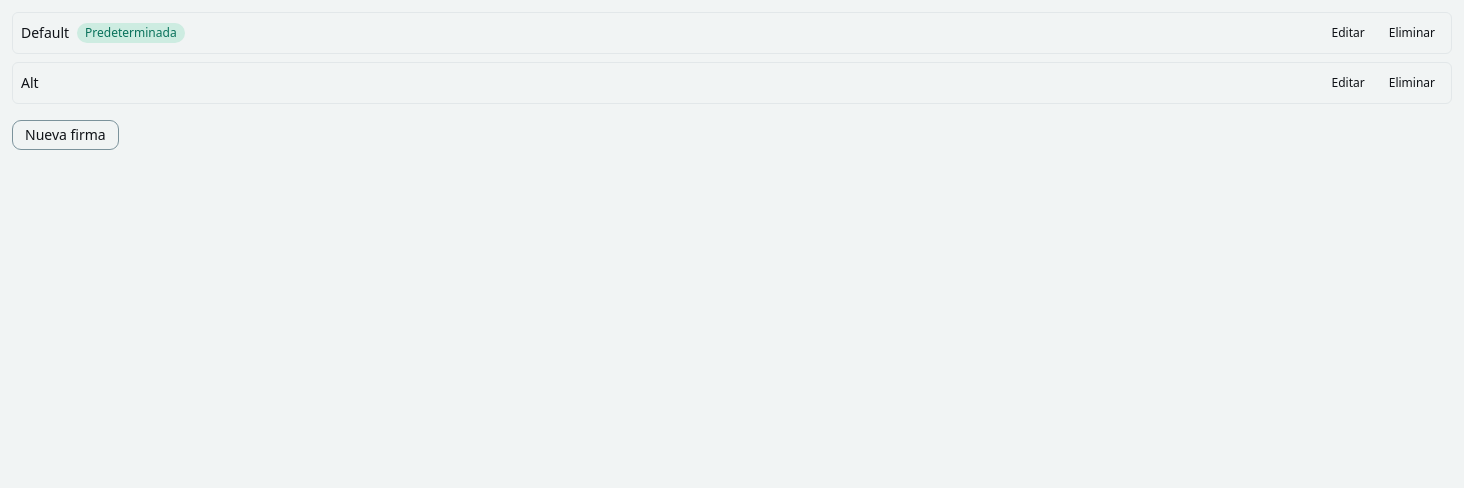
Test case: SignatureSettings › list view (#132): two or more signatures › falls back to the edit-first view, open on the remaining signature, after a delete drops the count to one
Check: the text "Alt" is shown, box [21, 73, 39, 93]
What coordinates should you click on to do the following:
click the button "Eliminar" in the row of "Alt"
I would click on:
 (1412, 83)
Its box is [1381, 71, 1443, 95].
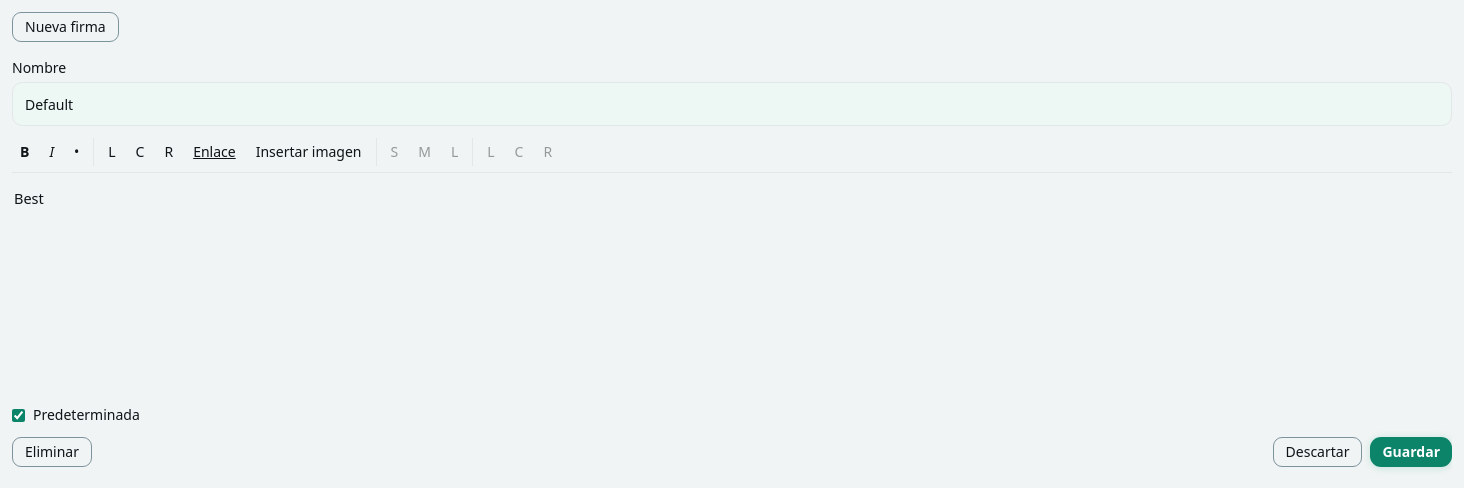
Check: the field labelled "Nombre" holds "Default", box [12, 82, 1452, 126]
Check: the text "Alt" is gone
Check: the button "Editar" is gone
